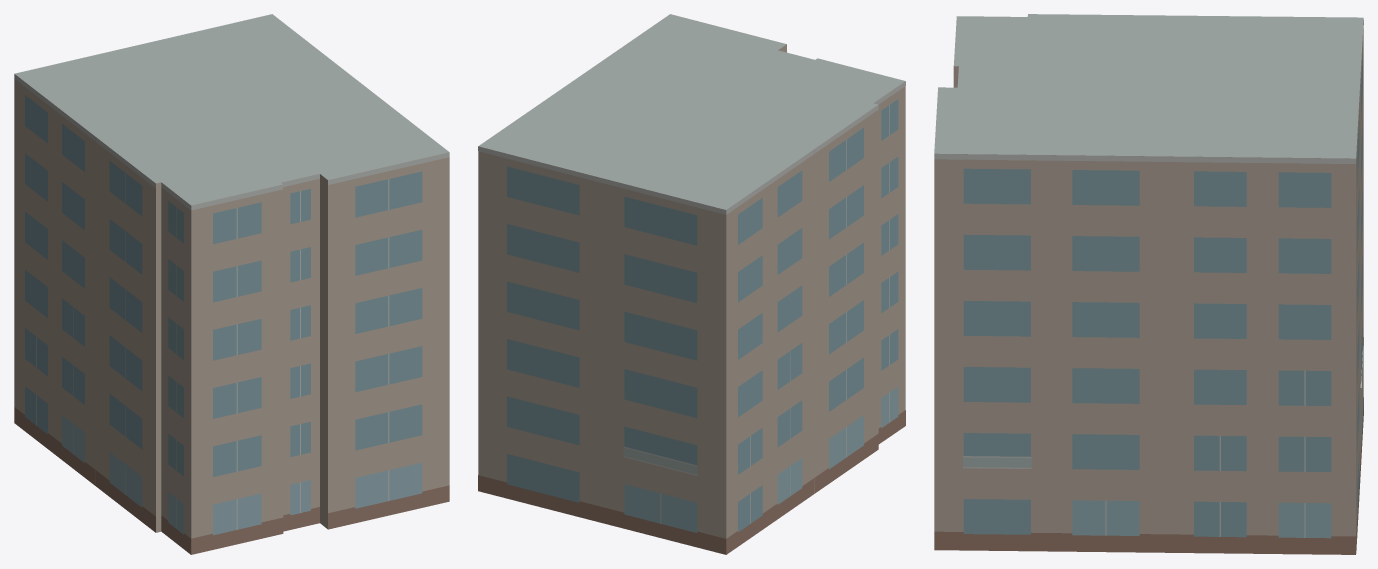
File: survey-upis-33047211.glb
The picture shows the model from 3 angles, left to right: view 1: azimuth 30°, elevation 25°; view 2: azimuth 150°, elevation 25°; view 3: azimuth 270°, elevation 25°; orthographic projection. The views are drawn at different scales.
Visible parts, largest first — view 1: survey-upis-33047211.tmp; view 2: survey-upis-33047211.tmp; view 3: survey-upis-33047211.tmp.
Boxes of the visible parts, box(x1,y1,x2,y2) form: survey-upis-33047211.tmp: box(14, 14, 449, 554); survey-upis-33047211.tmp: box(478, 14, 905, 554); survey-upis-33047211.tmp: box(934, 14, 1363, 554).
Size of the model in its own units: 13.54 by 17.3 by 17.
